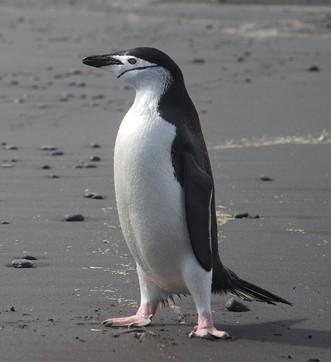chinstrap: (67, 33, 281, 347)
